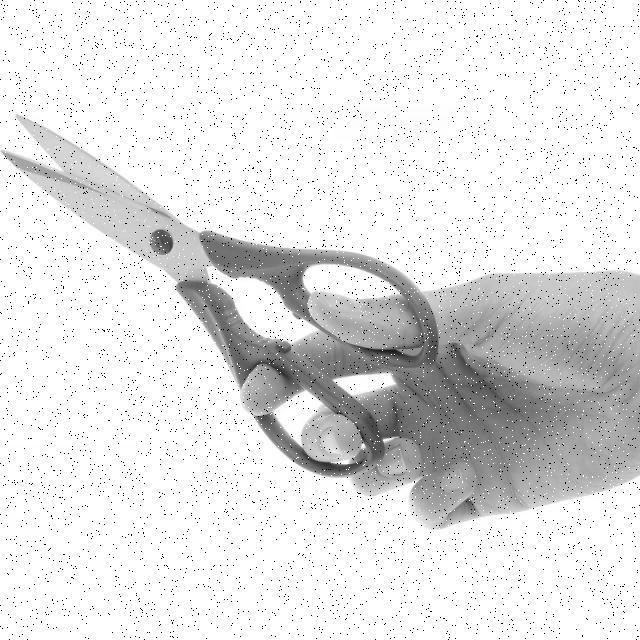scissors: (0, 110, 446, 472)
